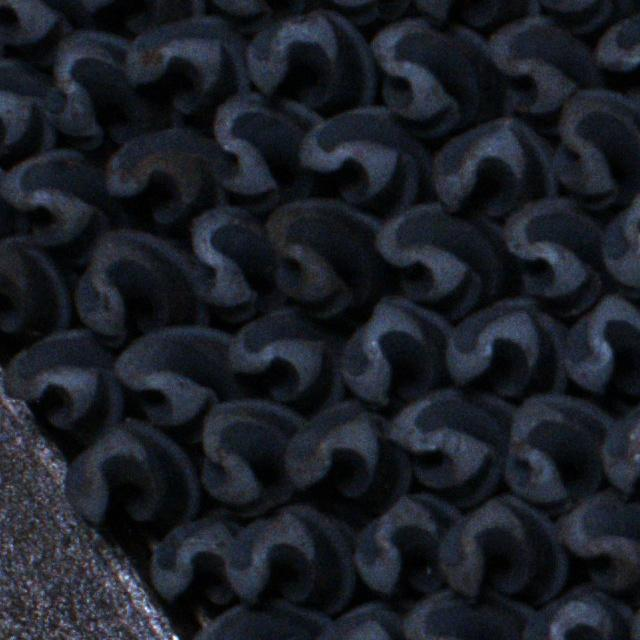tool_b: (45, 28, 182, 147), (369, 20, 506, 136), (374, 201, 518, 310), (264, 196, 396, 314), (75, 230, 210, 345), (63, 420, 199, 531), (386, 388, 516, 504), (438, 496, 568, 604), (224, 506, 358, 610), (298, 106, 434, 207), (283, 398, 410, 506), (3, 328, 125, 439), (244, 8, 375, 108), (209, 94, 325, 206), (503, 394, 617, 507), (0, 150, 113, 264), (336, 298, 454, 406), (430, 118, 560, 216), (125, 17, 251, 116), (102, 126, 228, 225), (447, 299, 571, 398), (200, 398, 310, 509), (500, 196, 606, 311), (114, 325, 237, 424), (224, 306, 344, 406), (483, 18, 603, 116), (353, 494, 464, 594), (183, 204, 280, 315), (554, 90, 640, 208), (148, 510, 246, 606), (554, 492, 640, 595), (563, 293, 640, 399), (0, 236, 72, 342), (401, 590, 539, 640), (521, 585, 636, 640), (0, 59, 58, 159), (190, 602, 334, 640), (600, 181, 640, 297), (601, 397, 640, 502), (71, 0, 205, 29), (1, 0, 84, 46), (310, 601, 406, 640), (593, 12, 640, 91), (411, 0, 540, 28), (530, 0, 636, 32), (202, 0, 321, 28), (302, 0, 416, 24)
